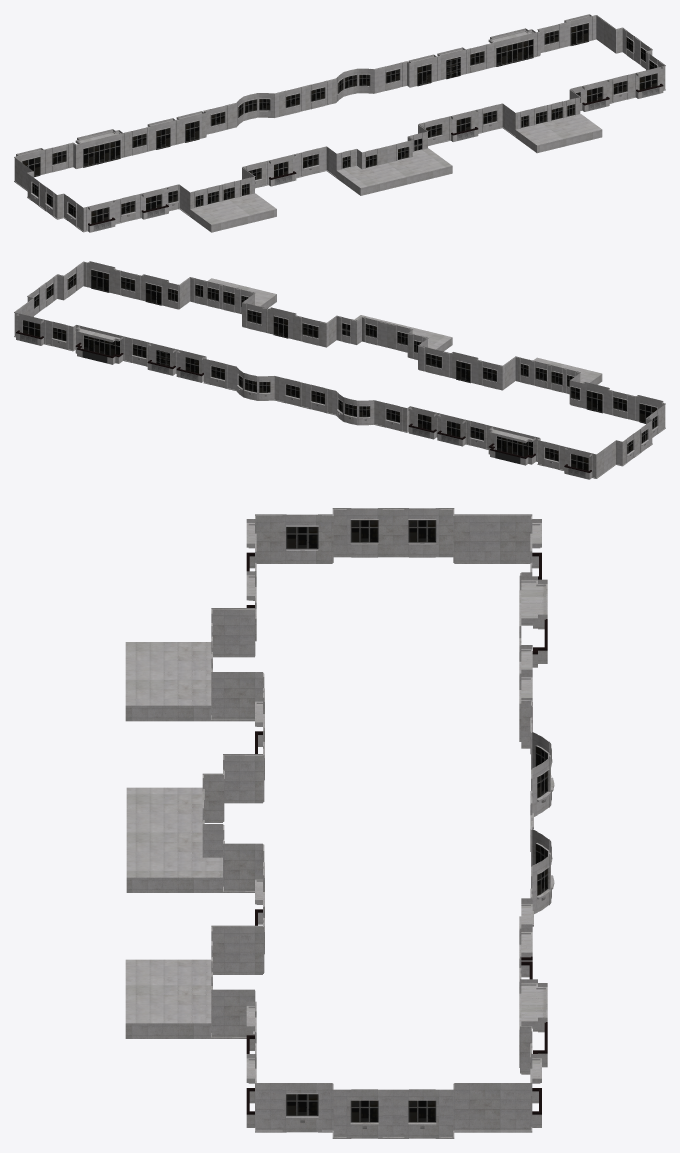
Rendered from BLD-1-Floor-Type-3.FBX.
3 views of the same model, one above another, from view 1: azimuth 30°, elevation 25°; view 2: azimuth 150°, elevation 25°; view 3: azimuth 270°, elevation 25° (orthographic). The views are drawn at different scales.
Parts seen in each view (by area): view 1: Exterior-Type-01-013; view 2: Exterior-Type-01-013; view 3: Exterior-Type-01-013.
Boxes of the visible parts, x1,y1,x2,y2 form: Exterior-Type-01-013: (14, 14, 665, 232); Exterior-Type-01-013: (14, 261, 665, 479); Exterior-Type-01-013: (125, 508, 554, 1138).
Size of the model in its own units: 60.27 by 2.38 by 18.73.
